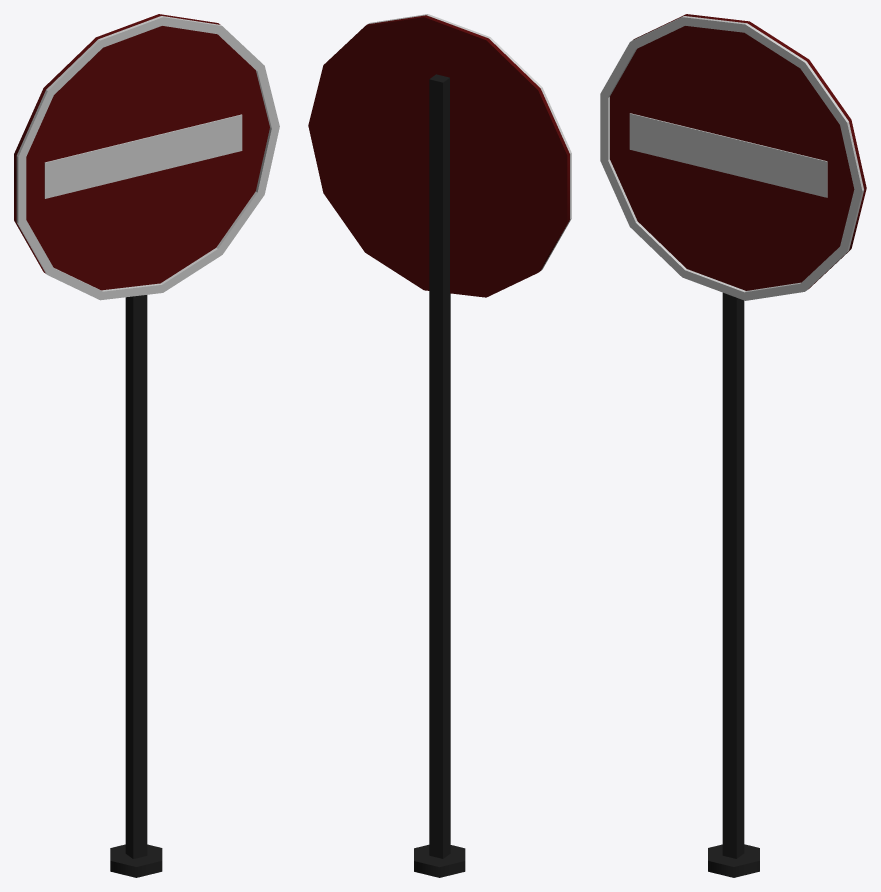
The model's file is Props2.fbx.
3 views of the same model, side by side, from view 1: azimuth 30°, elevation 25°; view 2: azimuth 150°, elevation 25°; view 3: azimuth 330°, elevation 25° (orthographic).
Parts seen in each view (by area): view 1: Props2; view 2: Props2; view 3: Props2.
Part boxes in pixels (left/top/right/bottom): Props2: left=14, top=14, right=279, bottom=877; Props2: left=308, top=14, right=571, bottom=877; Props2: left=600, top=14, right=866, bottom=877.
Size of the model in its own units: 2.99 by 9.28 by 0.5148.
